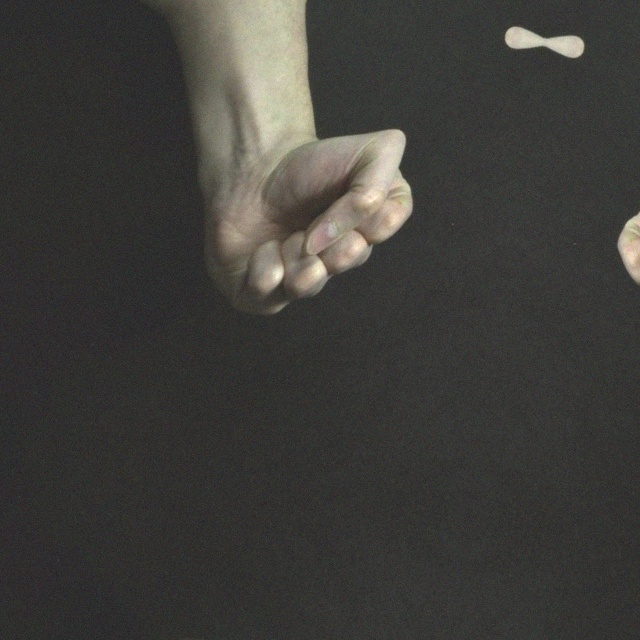Rock: (621, 0, 640, 28)
